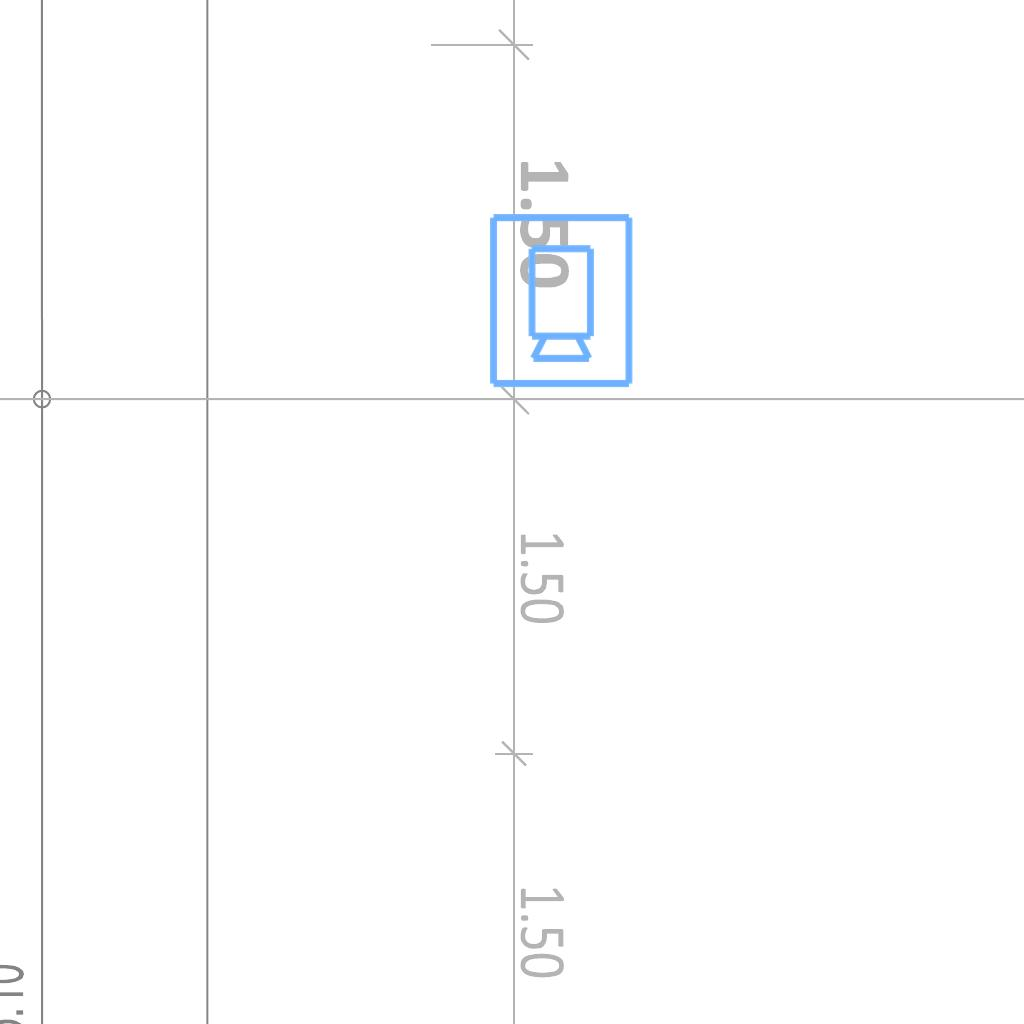KFO_Kamera_mit_Festobjektiv: (483, 209, 637, 391)
